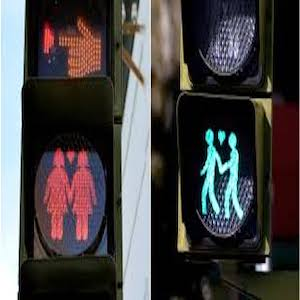green: (188, 120, 247, 222)
red: (42, 147, 95, 240)
